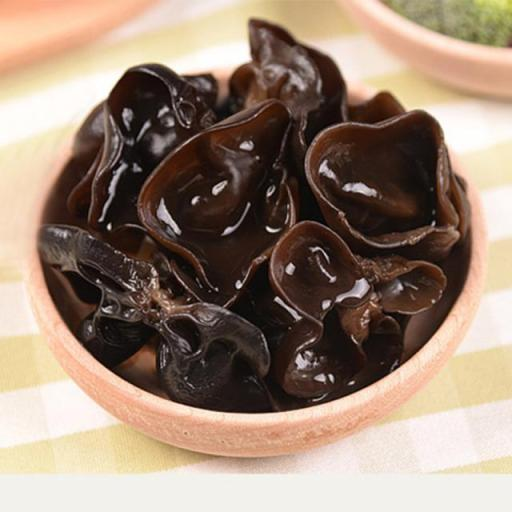Wood Ear Mushroom: (46, 16, 472, 416)
